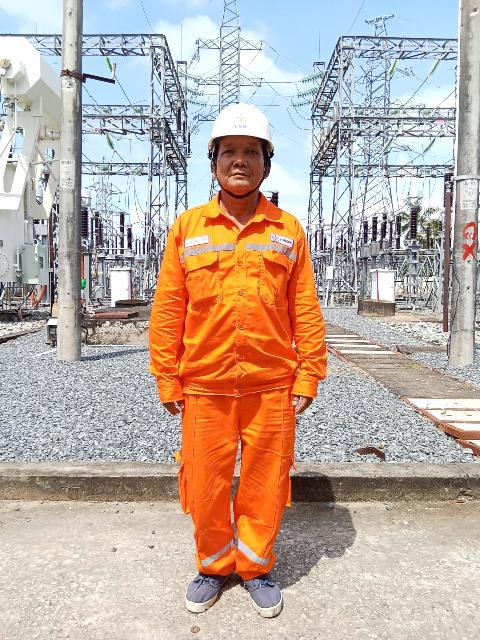helmet: (189, 98, 284, 165)
shoes: (178, 550, 241, 621), (238, 553, 293, 621)
